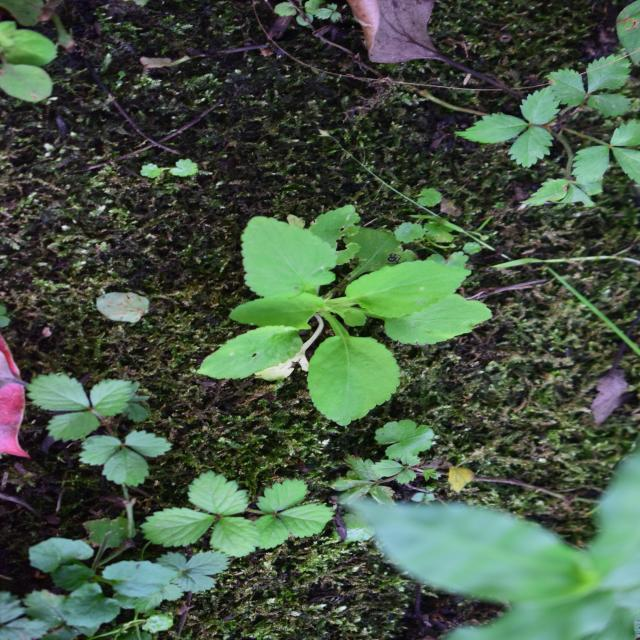Viola: (206, 146, 420, 434)
